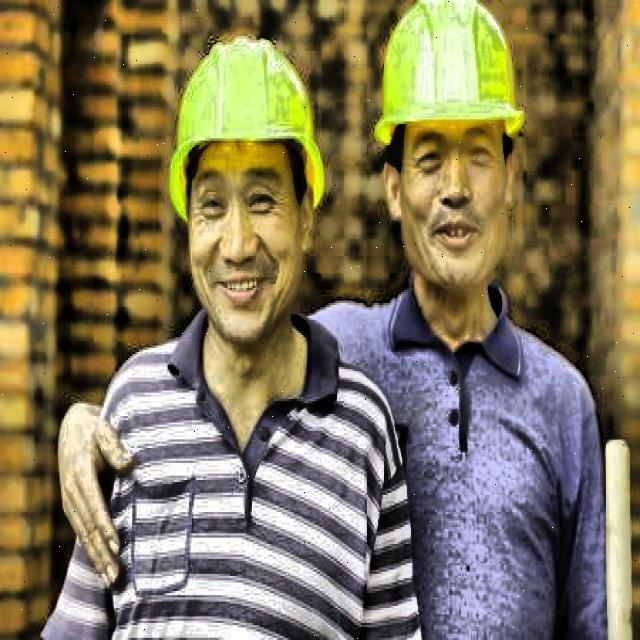helmet: (142, 19, 347, 354), (358, 4, 538, 314)
